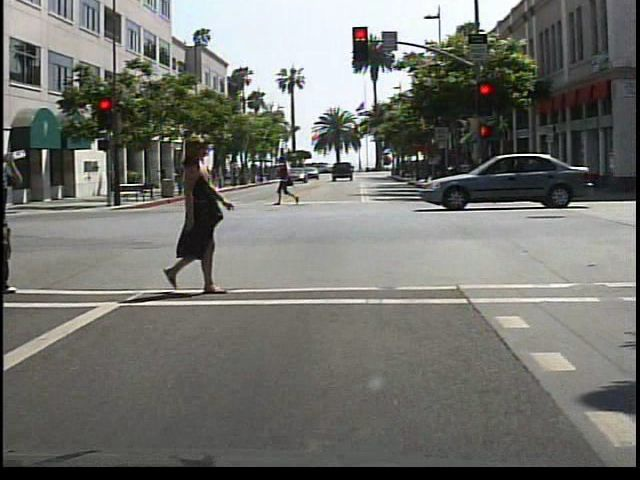person: (167, 134, 253, 297), (1, 144, 27, 300), (275, 158, 303, 209), (172, 163, 187, 189)
